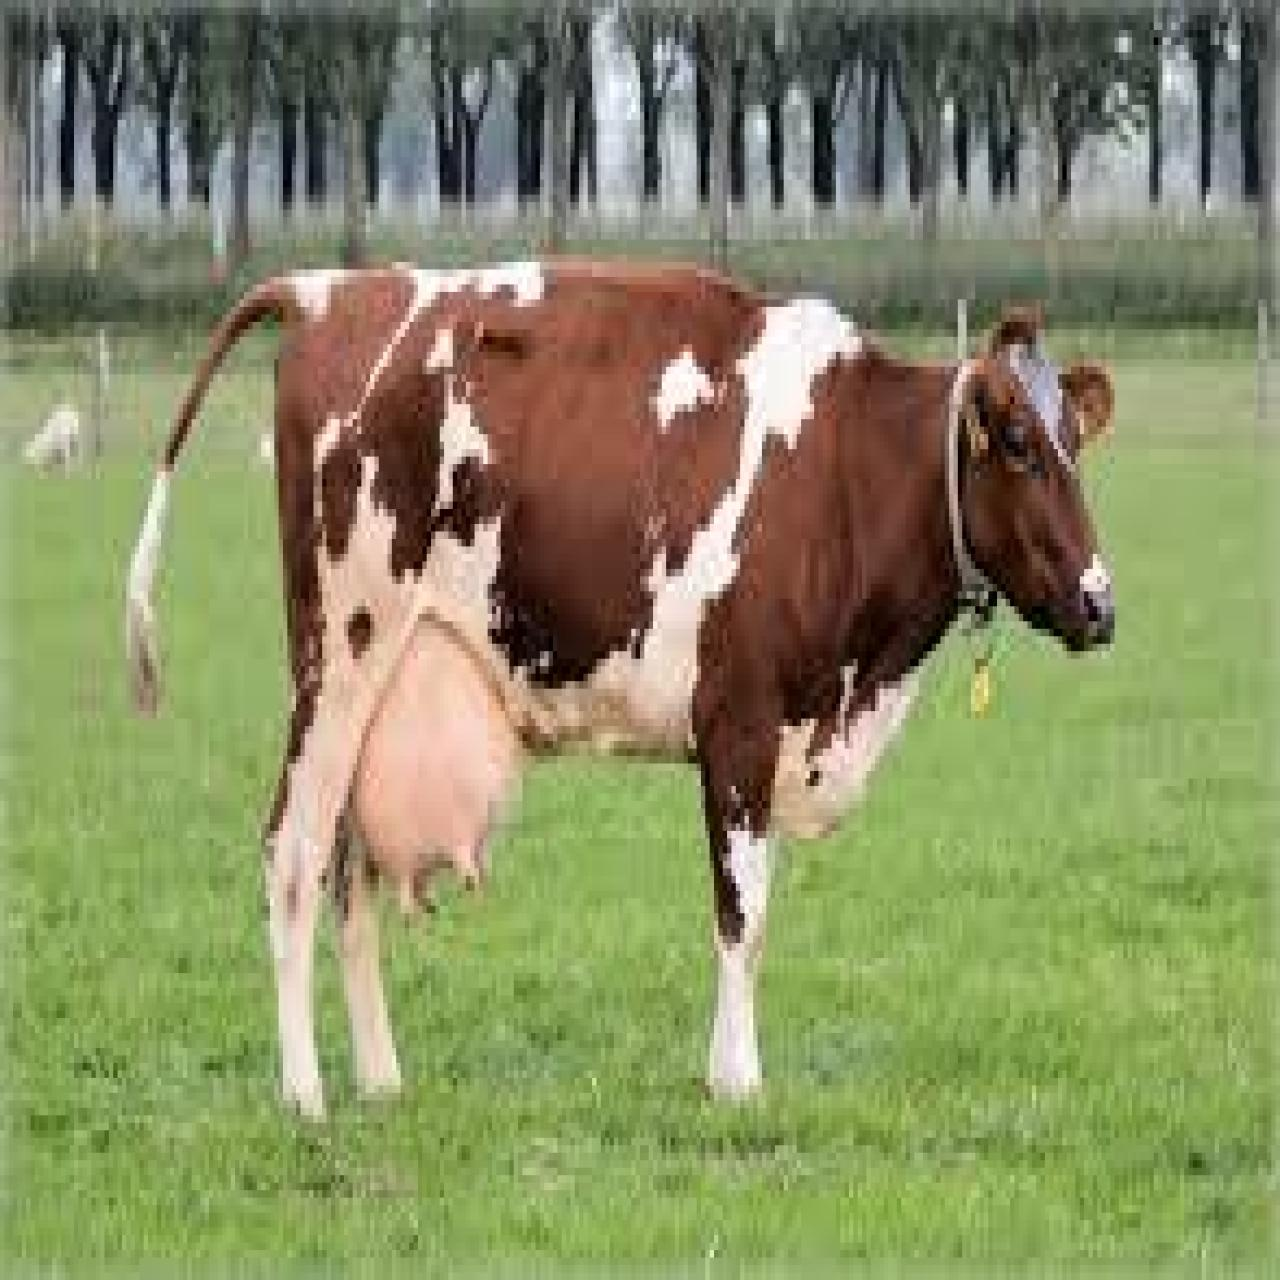cow: (127, 258, 1118, 1126)
